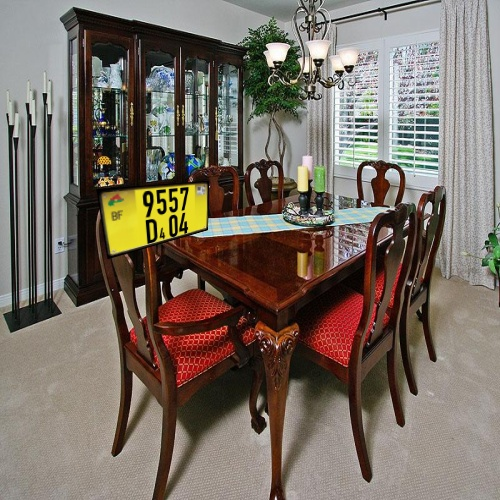plate: (85, 176, 231, 264)
